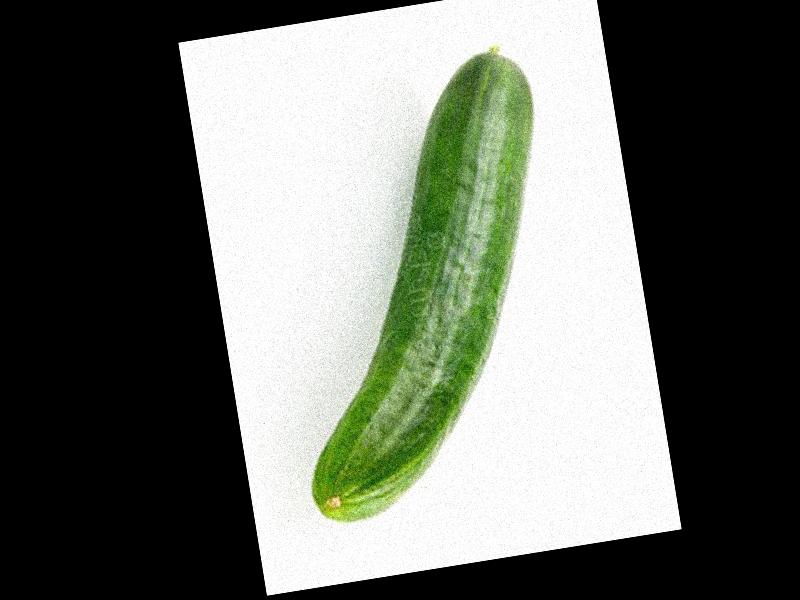Cucumber: (247, 47, 593, 527)
